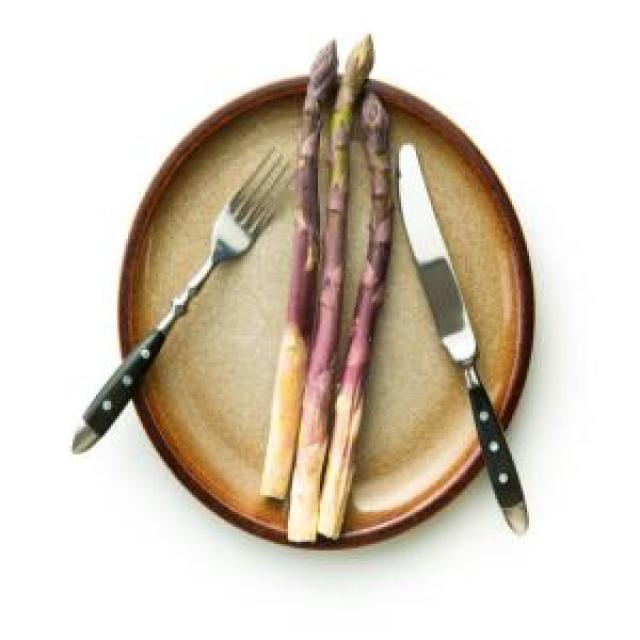knife: (397, 140, 533, 538)
